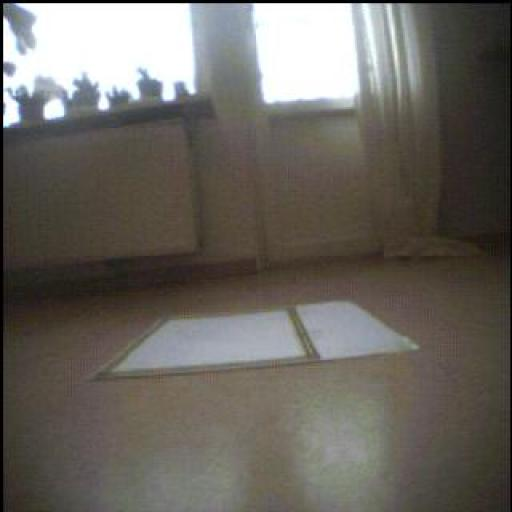Pad: (97, 302, 419, 379)
